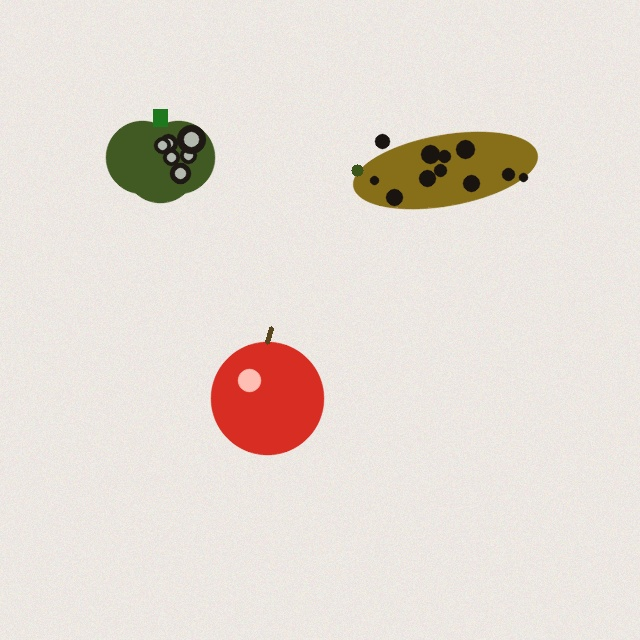Fresh apple: (211, 328, 323, 454)
Rotten banana: (348, 127, 542, 213)
Rotten bell pepper: (106, 109, 214, 202)
